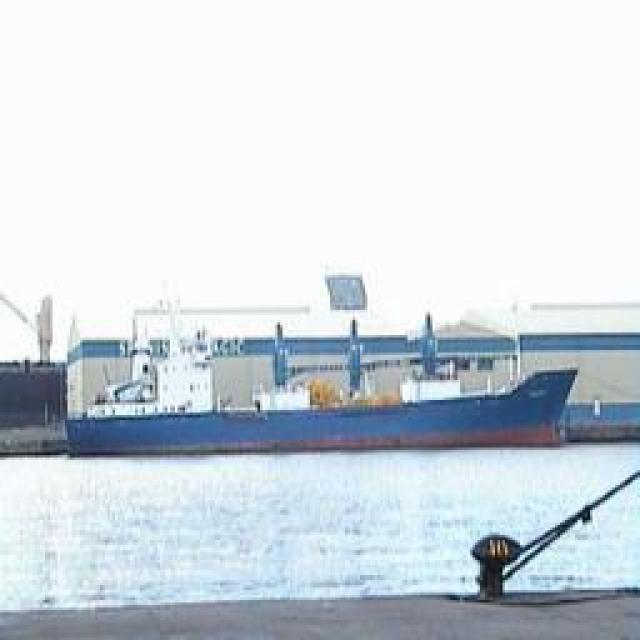ship2: (62, 313, 590, 456)
